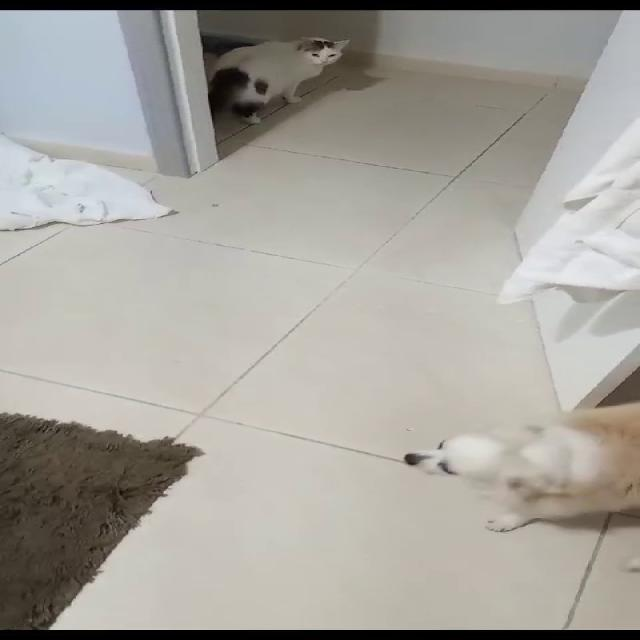Simba: (204, 34, 355, 132)
Theo: (381, 398, 639, 540)
